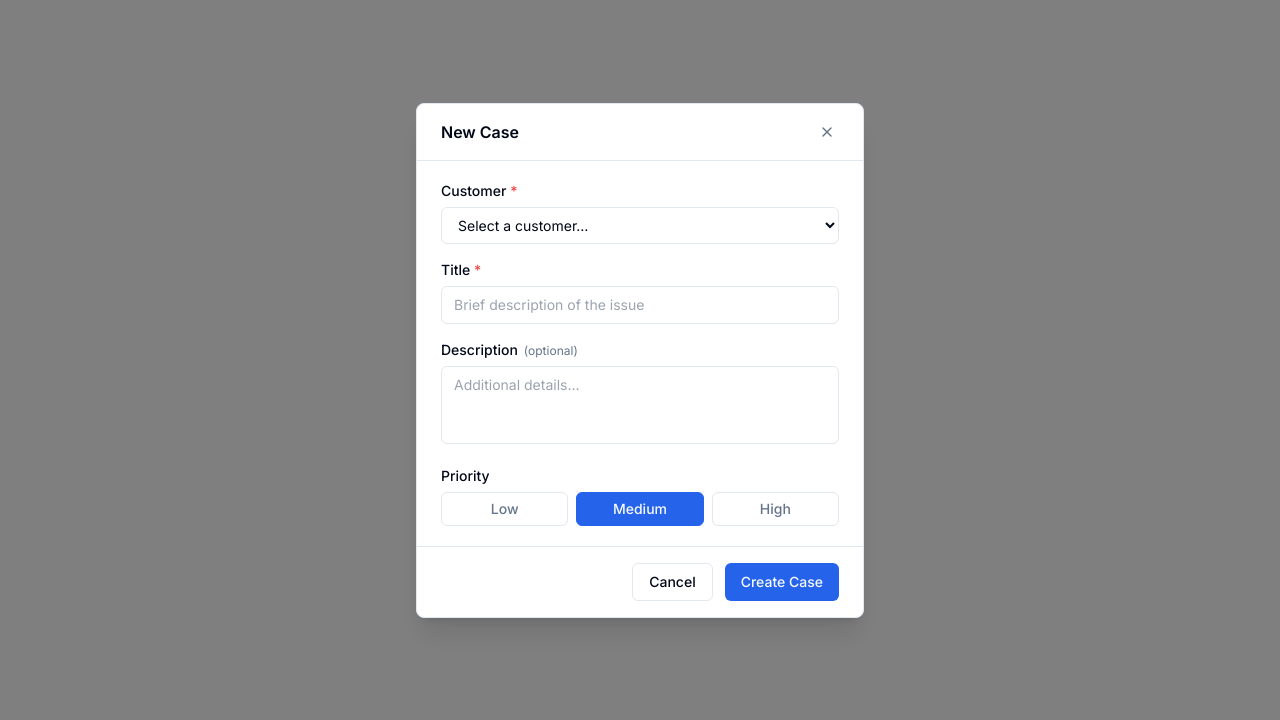
Test case: CreateCaseModal › shows error when submitting with empty title
This screenshot has width=1280, height=720.
Select "Acme Corp" in the dropdown labelled "Customer *" at (640, 225), box x1=441 y1=206 x2=839 y2=244
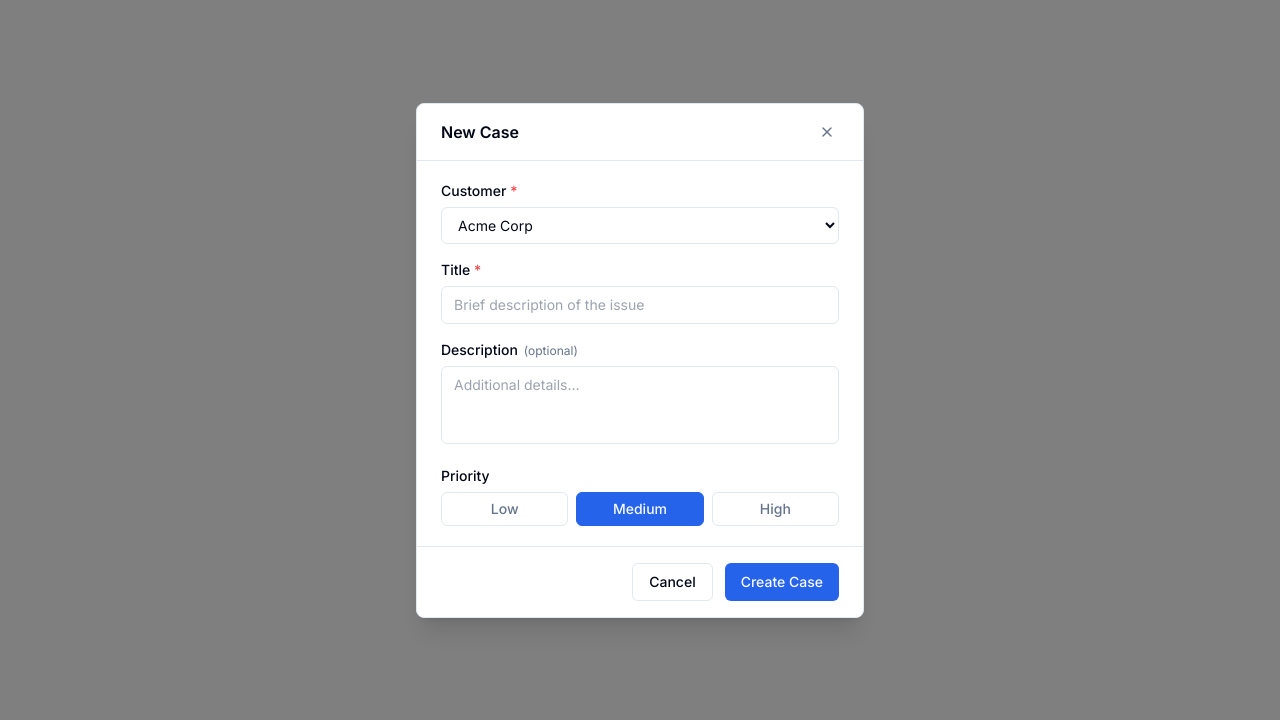
Click the button "Create Case" at (782, 582), box x1=725 y1=562 x2=839 y2=600
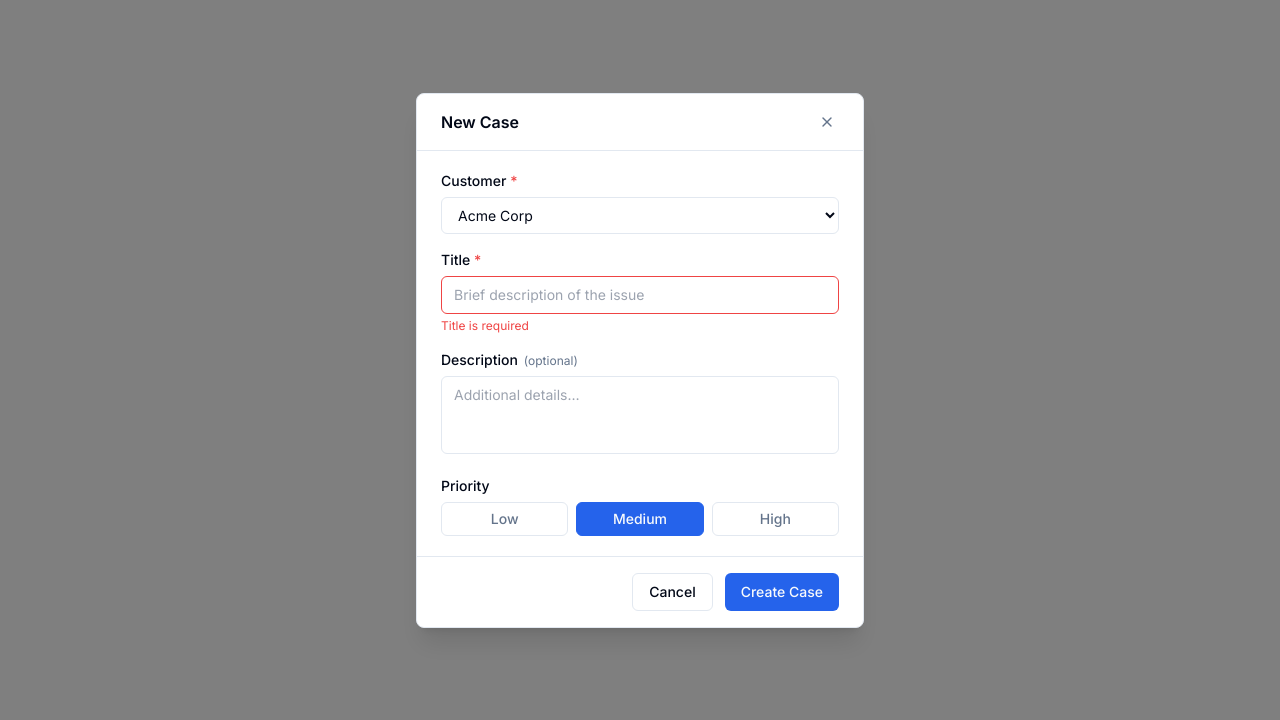
Check: the text "Title is required" is shown, box x1=441 y1=318 x2=529 y2=332
